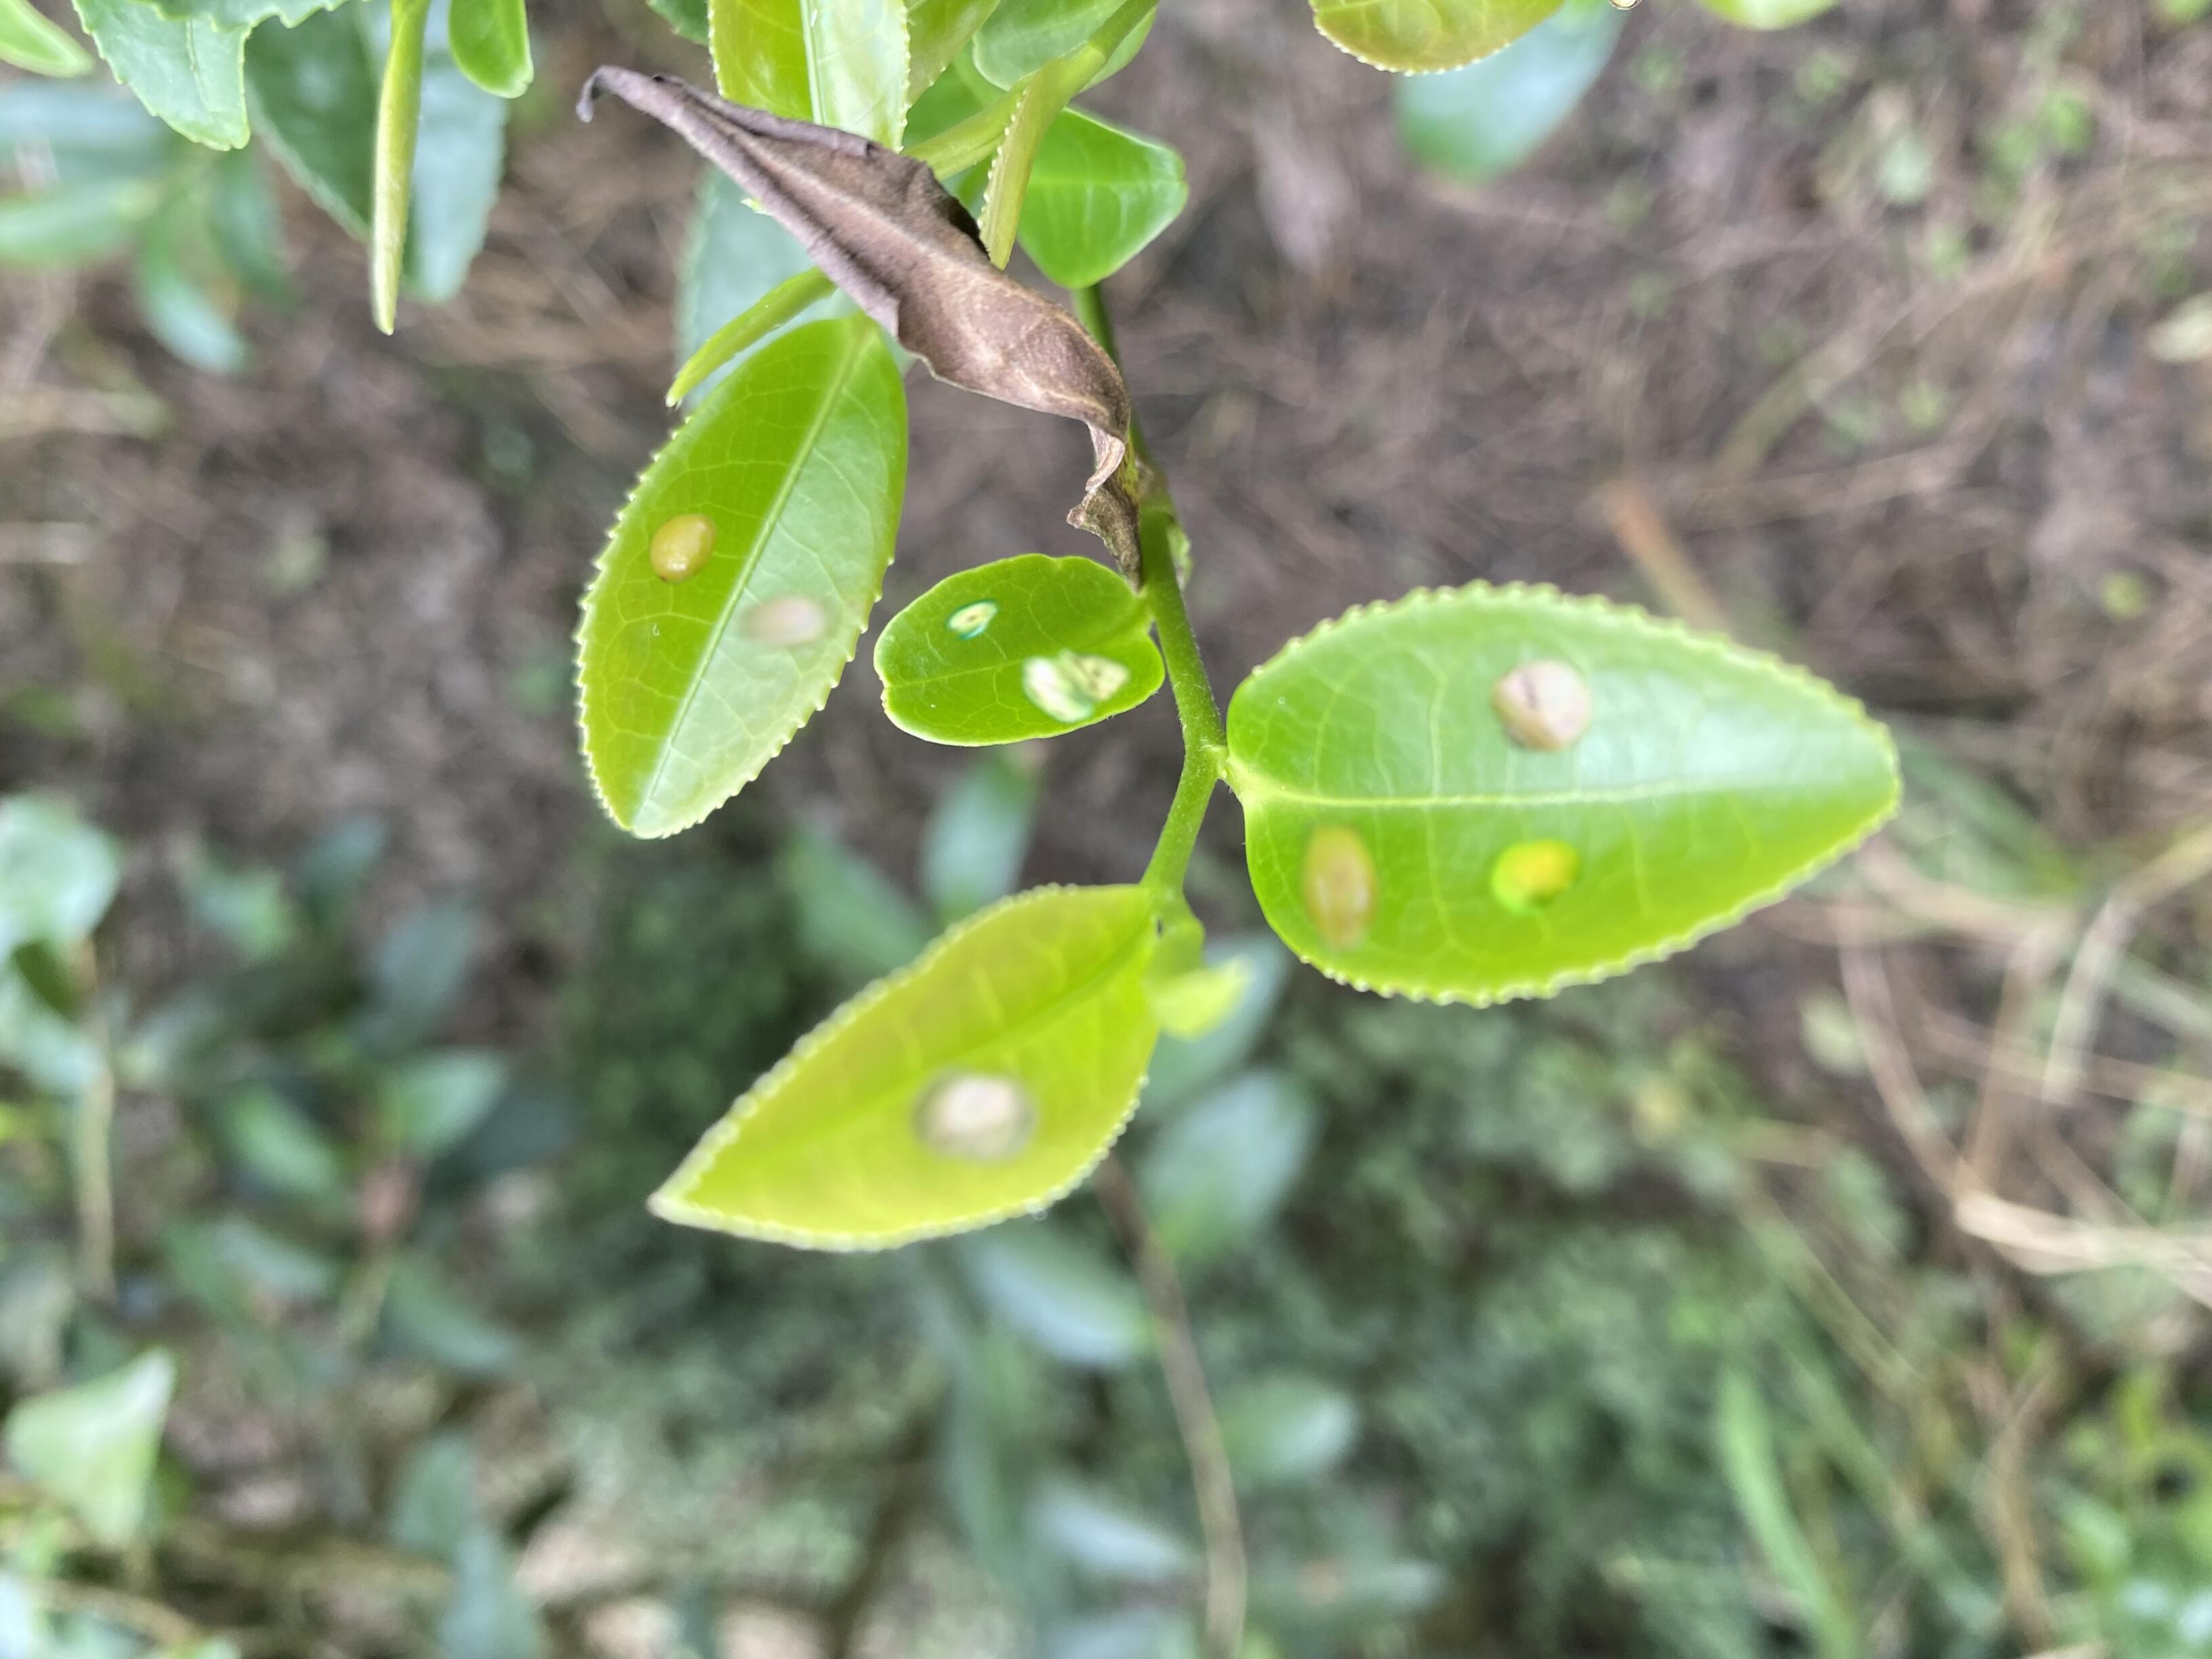chabing_high: (1228, 579, 1900, 1004), (566, 314, 909, 849), (871, 552, 1169, 749)
chabing_low: (648, 887, 1163, 1253)
